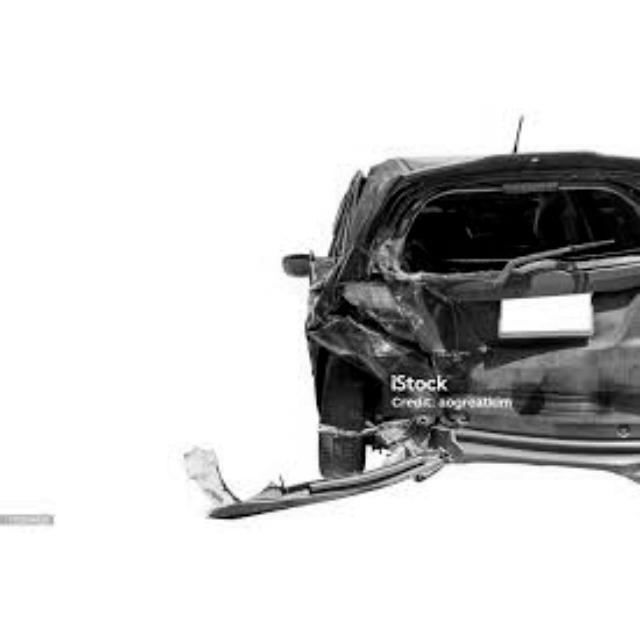Rear-windscreen-Damage: (412, 180, 640, 286)
Taillight-Damage: (342, 282, 408, 339)
boot-dent: (396, 274, 640, 389)
rear-bumper-dent: (300, 396, 441, 500)
